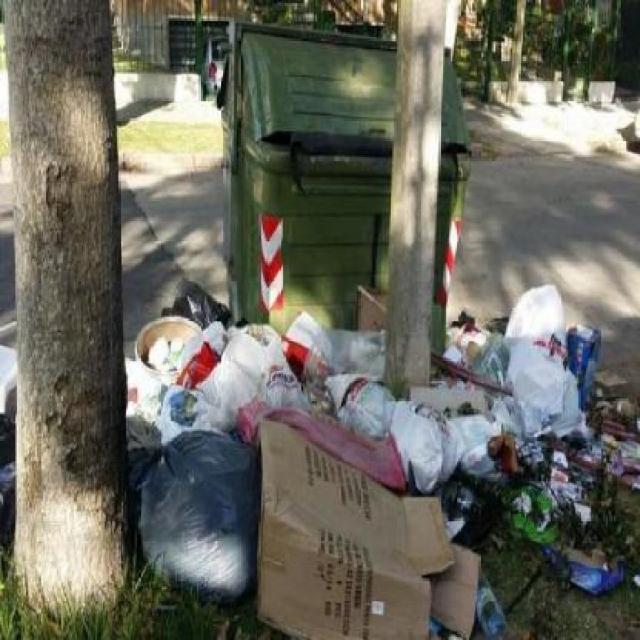garbage: (108, 286, 591, 614)
